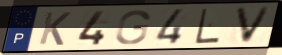4: (153, 7, 188, 46), (75, 9, 107, 47)
G: (113, 9, 152, 46)
K: (36, 11, 73, 47)
L: (194, 7, 222, 46)
V: (234, 6, 274, 45)
